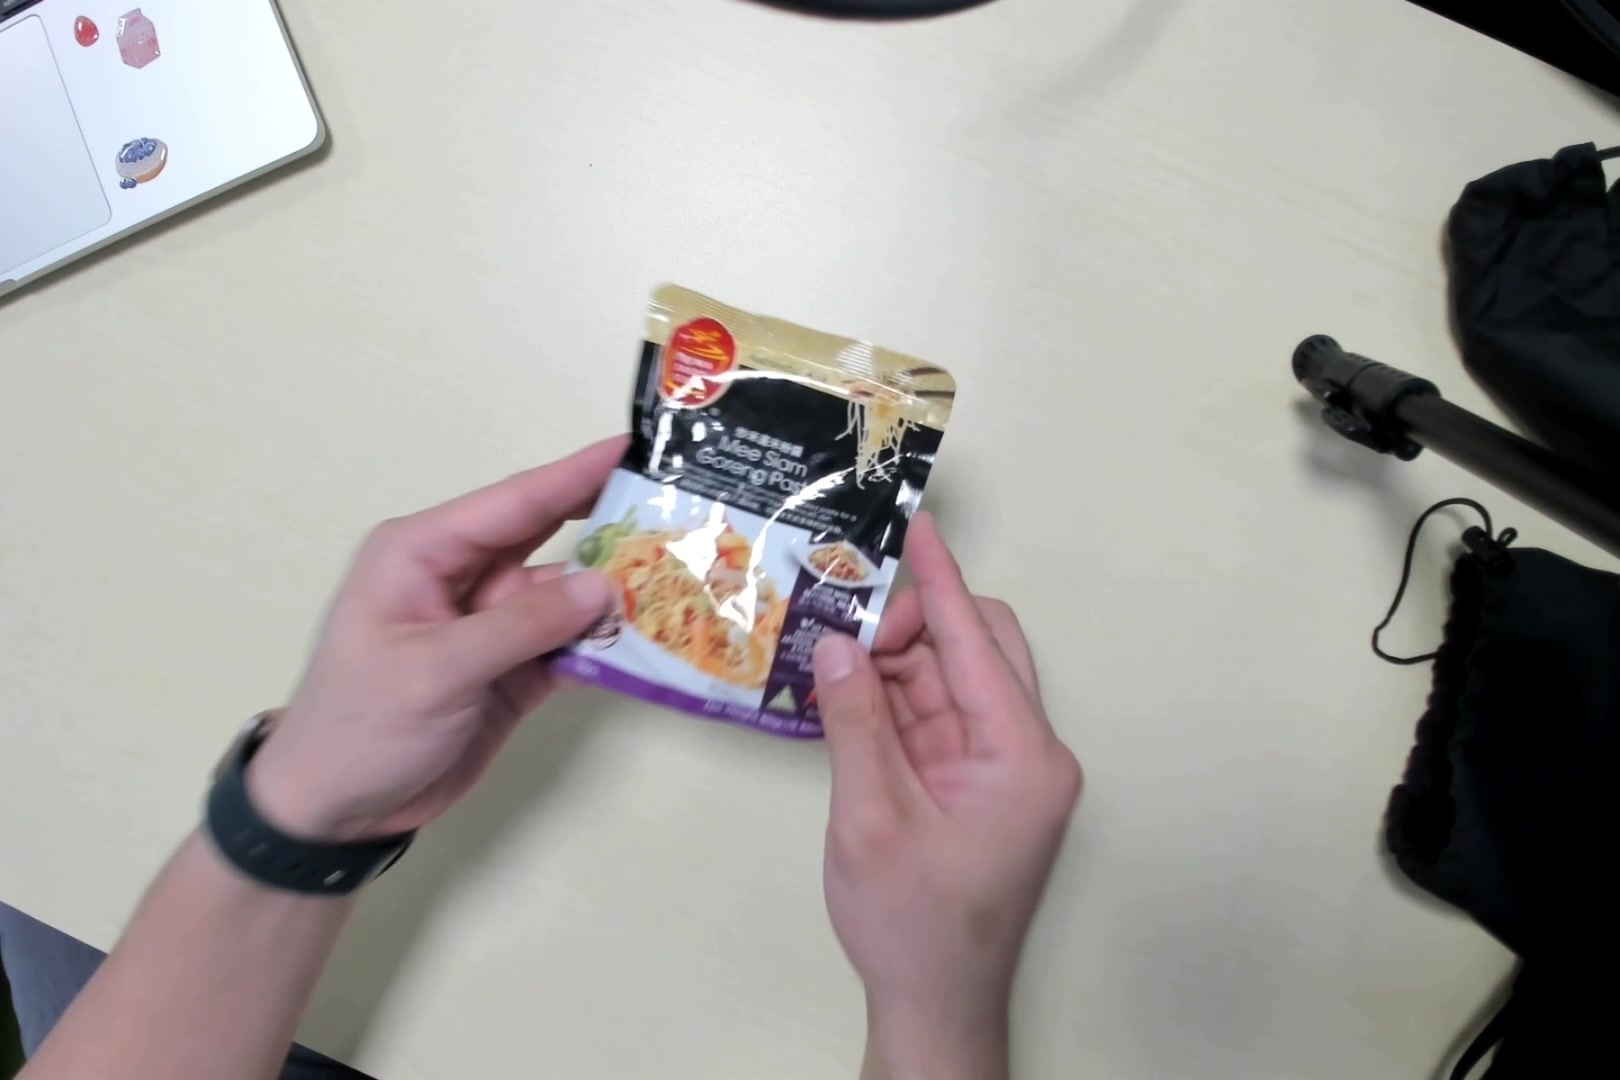CurryPastePowderSauce_0-99g_NonHalal_NonHealthy: (567, 278, 943, 733)
